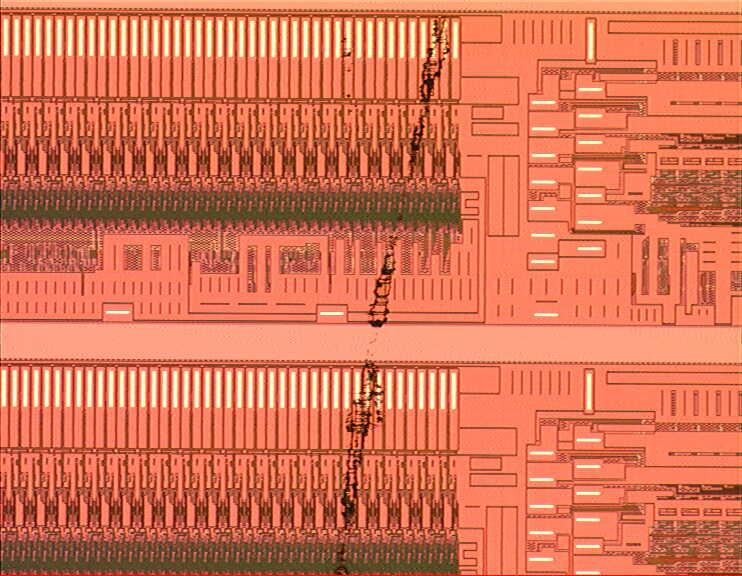SCRATCH: (326, 3, 454, 576)
